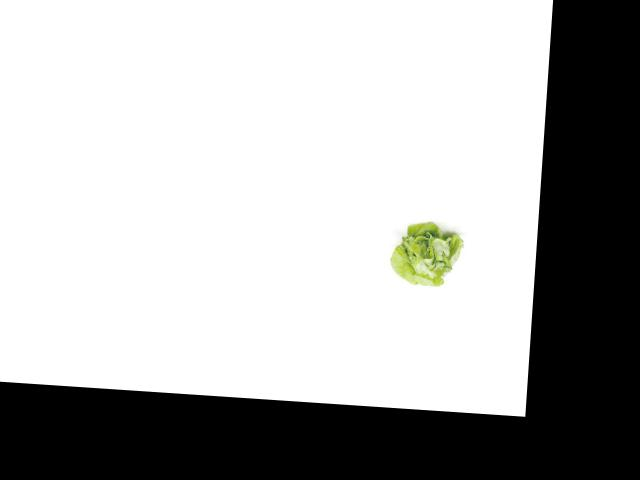lettuce: (387, 215, 467, 294)
